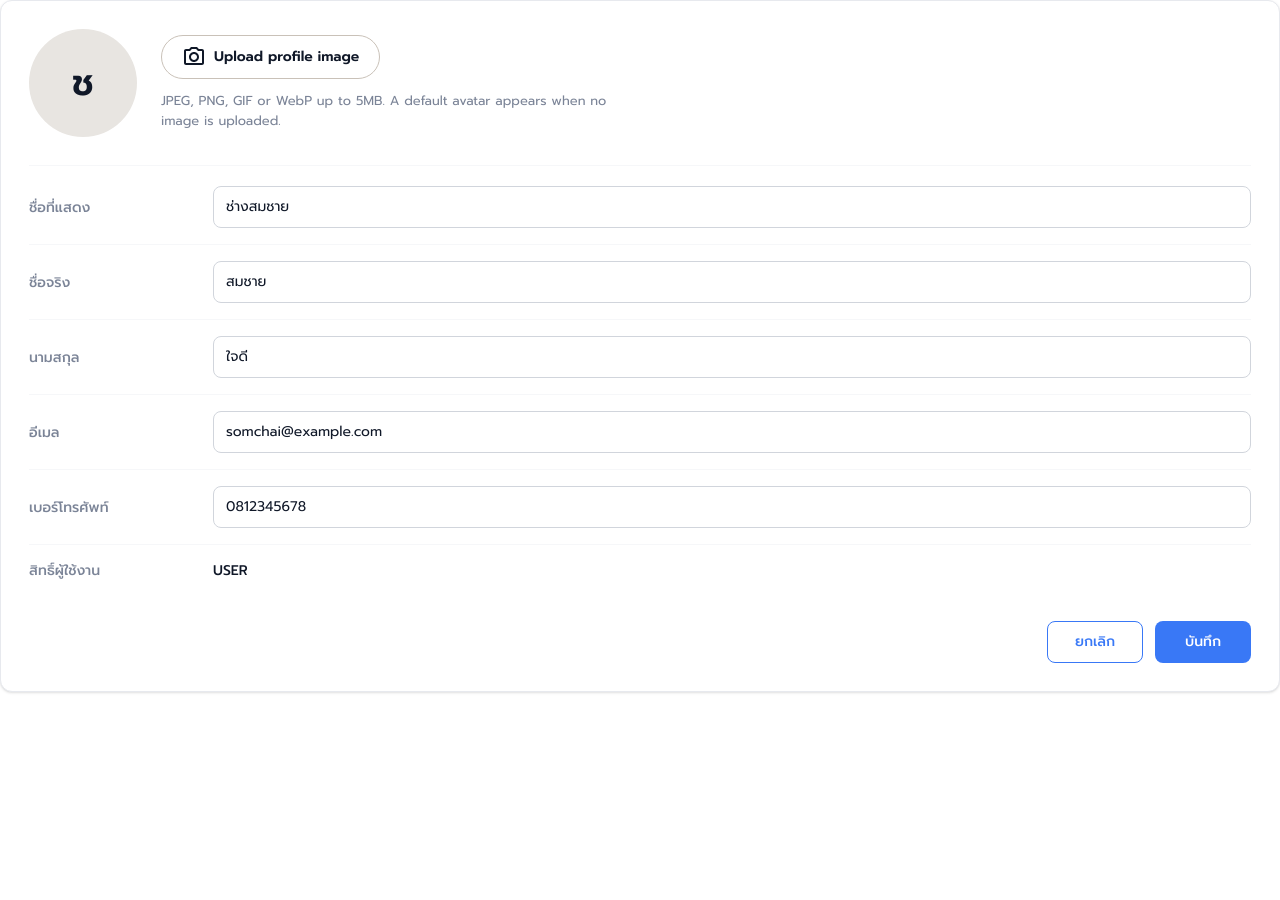
Test: ProfileCard2 › submits normalized profile fields and syncs the server response
Replace the text in the field labelled "ชื่อที่แสดง" with "  สมชาย คนใหม่  ". click: (732, 207)
box: [213,186,1251,228]
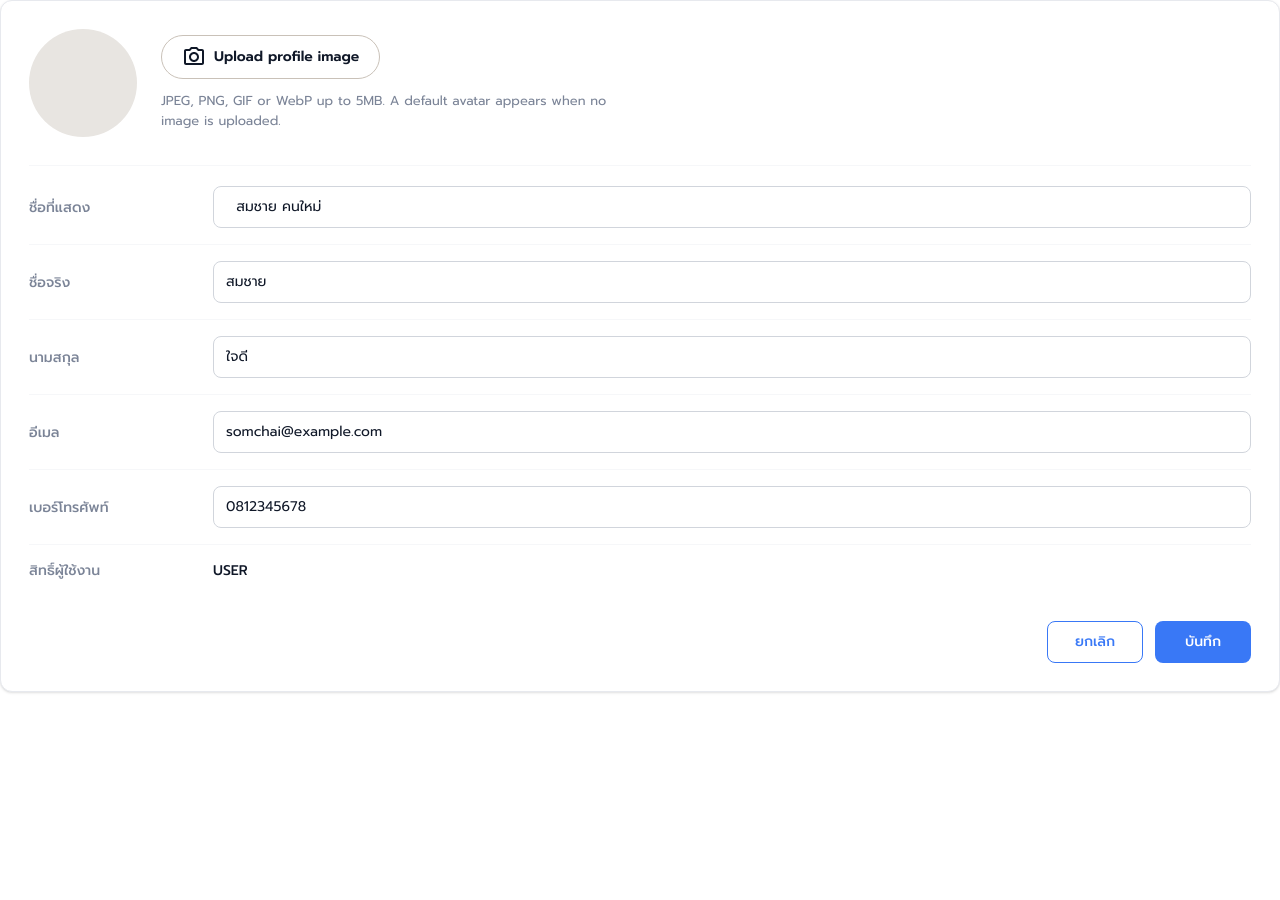
Click the button "บันทึก". click: (1203, 642)
box: [1155,621,1251,663]
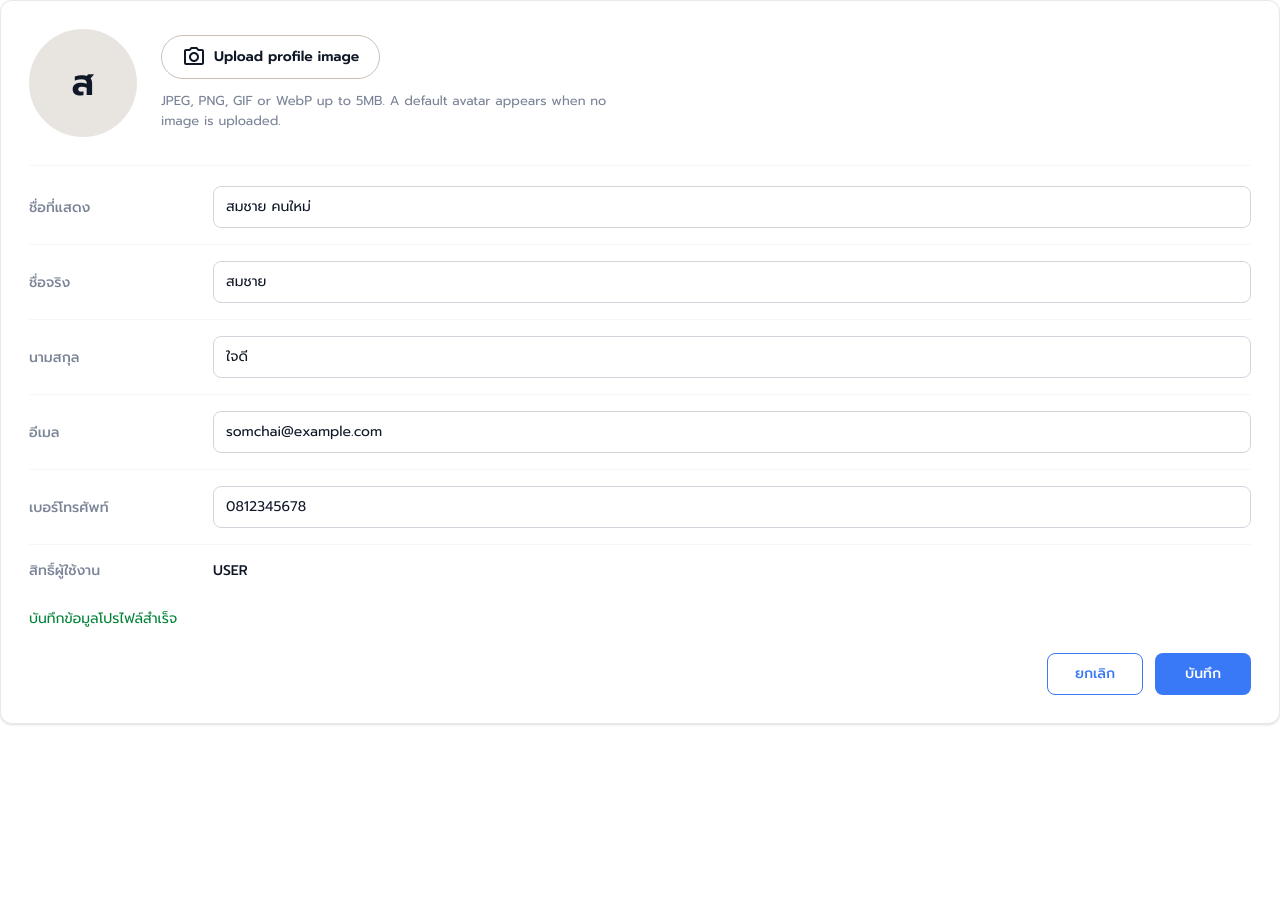
Check: the text "บันทึกข้อมูลโปรไฟล์สำเร็จ" is shown, box [29,608,177,629]
